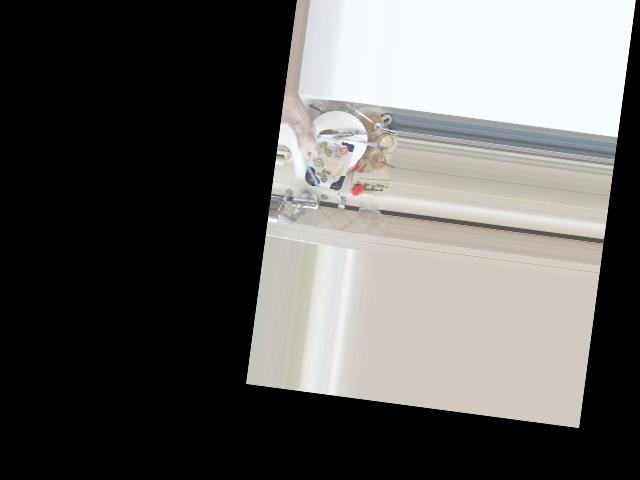cheese: (290, 124, 354, 195)
